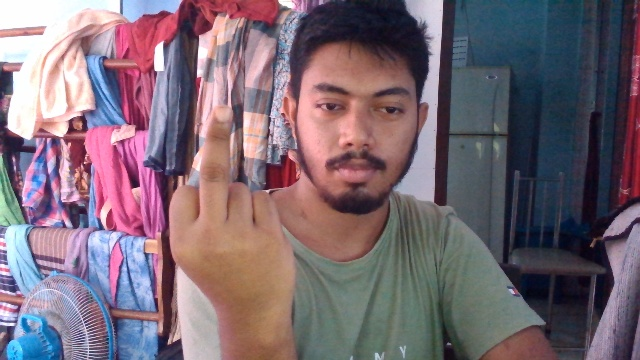fucku: (164, 100, 303, 315)
